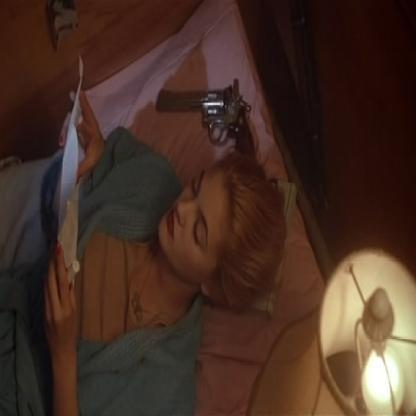gun: (150, 72, 264, 152)
